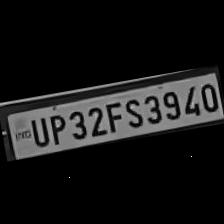0: (194, 78, 218, 113)
2: (82, 99, 106, 135)
3: (63, 104, 88, 140), (140, 89, 162, 125)
4: (177, 80, 201, 116)
9: (156, 84, 182, 120)
F: (101, 96, 124, 132)
P: (43, 108, 68, 144)
S: (120, 93, 144, 128)
U: (24, 112, 50, 147)
